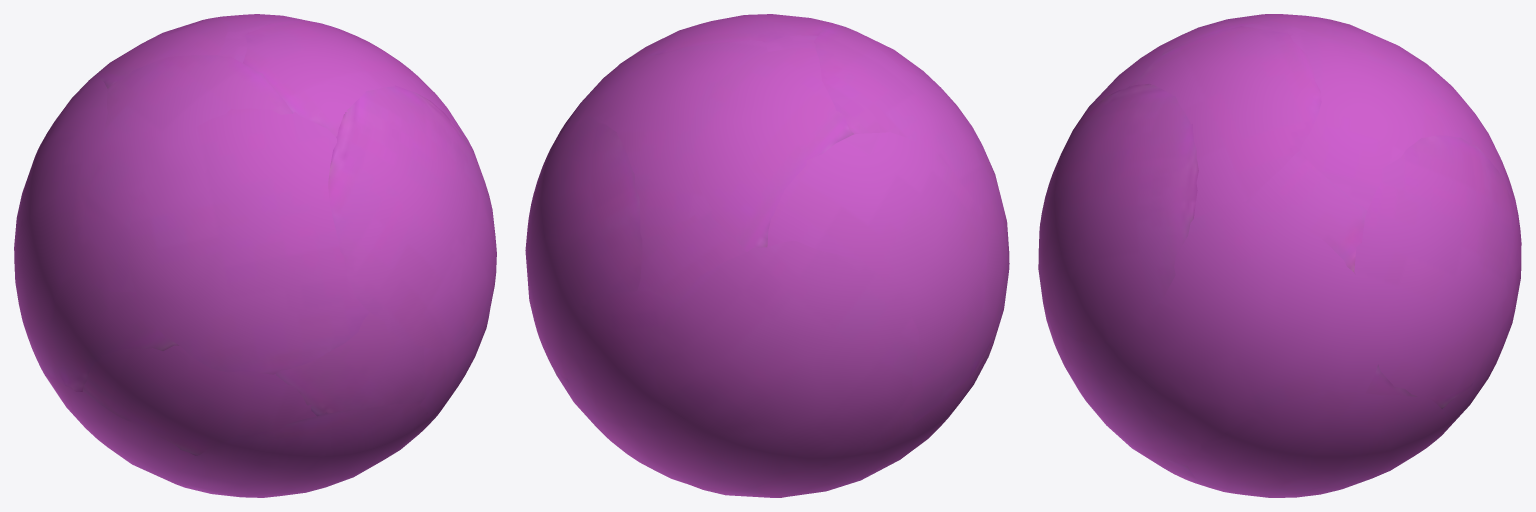
The picture shows the model from 3 angles, left to right: view 1: azimuth 30°, elevation 25°; view 2: azimuth 150°, elevation 25°; view 3: azimuth 270°, elevation 25°; orthographic projection.
Parts seen in each view (by area): view 1: material; view 2: material; view 3: material.
Part boxes in pixels (x1,y1,x2,y2): material: (14,14,496,497); material: (525,14,1009,497); material: (1038,14,1521,497).
Size of the model in its own units: 0.9996 by 1 by 0.9983.
1 material, 1 textured.
